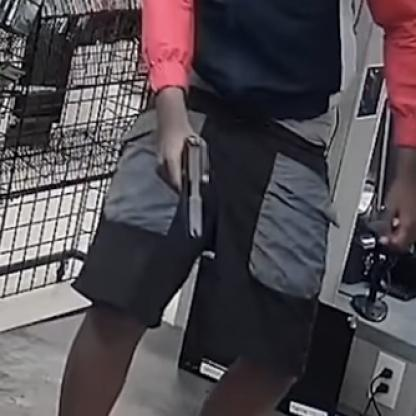weapon: (177, 133, 208, 243)
